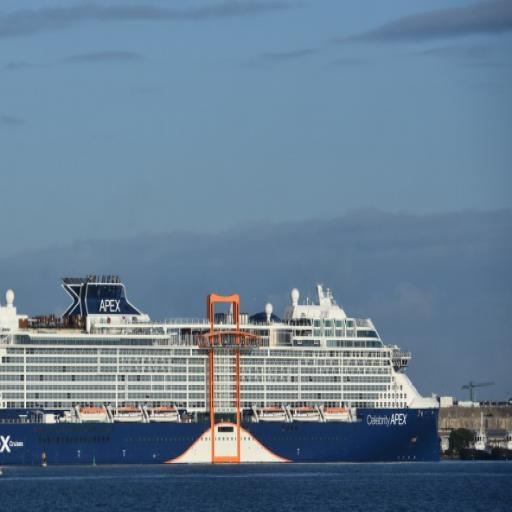cruises: (1, 272, 446, 471)
